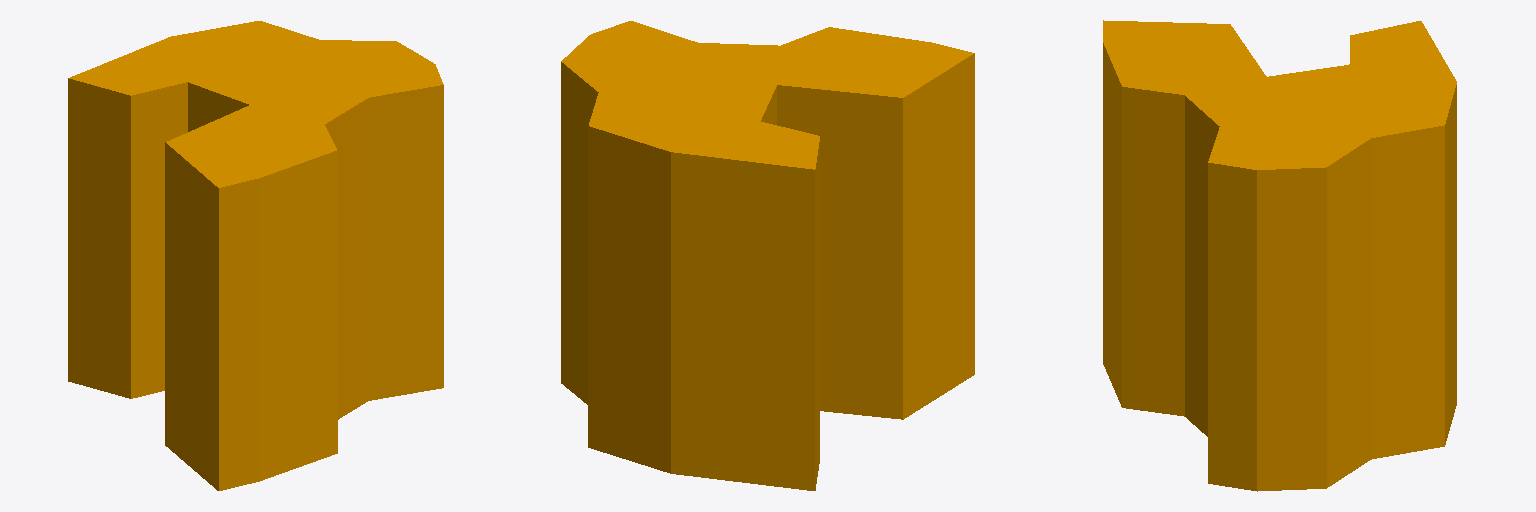
URDF robot description (object):
<?xml version="1.0"?>
<robot name="object">
  <link name="object">
    <visual>
      <origin xyz="0 0 0"/>
      <geometry>
        <mesh filename="meshes/polygon/poly_45_s.obj" scale=".03 .03 .03"/>
      </geometry>
    </visual>
    <collision>
  <origin xyz="0 0 0"/>
  <geometry>
    <mesh filename="meshes/polygon/poly_45_s_0decompose.obj" scale=".03 .03 .03"/>
<!--          <mesh filename="meshes/custom/obj0_ball.obj" scale=".05 .05 .05"/>-->
  </geometry>
</collision><collision>
  <origin xyz="0 0 0"/>
  <geometry>
    <mesh filename="meshes/polygon/poly_45_s_1decompose.obj" scale=".03 .03 .03"/>
<!--          <mesh filename="meshes/custom/obj0_ball.obj" scale=".05 .05 .05"/>-->
  </geometry>
</collision><collision>
  <origin xyz="0 0 0"/>
  <geometry>
    <mesh filename="meshes/polygon/poly_45_s_2decompose.obj" scale=".03 .03 .03"/>
<!--          <mesh filename="meshes/custom/obj0_ball.obj" scale=".05 .05 .05"/>-->
  </geometry>
</collision>

<!--    <collision>-->
<!--      <origin xyz="0 0 0"/>-->
<!--      <geometry>-->
<!--        <mesh filename="meshes/polygon/poly_45_s.obj" scale=".03 .03 .03"/>-->
<!--&lt;!&ndash;          <mesh filename="meshes/custom/obj0_ball.obj" scale=".05 .05 .05"/>&ndash;&gt;-->
<!--      </geometry>-->
<!--    </collision>-->
    <inertial>
      <density value="1000.0"/>
    </inertial>
  </link>
</robot>

--- What the picture shows (computed from the rendered views, not written in the file) ---
The picture shows the robot from 3 angles, left to right: view 1: azimuth 30°, elevation 25°; view 2: azimuth 150°, elevation 25°; view 3: azimuth 270°, elevation 25°; orthographic projection.
Model object with 1 links and 0 joints (none), rooted at object, posed all joints at 0.
Visible links, largest first — view 1: object; view 2: object; view 3: object.
Link boxes in pixels (left/top/right/bottom): object: left=68, top=21, right=443, bottom=490; object: left=561, top=21, right=974, bottom=490; object: left=1103, top=20, right=1456, bottom=491.
Size in the robot's own frame: 0.06 by 0.06 by 0.06 metres.
Meshes: 1 distinct files referenced, 1 mesh visuals loaded (1 OBJ).
